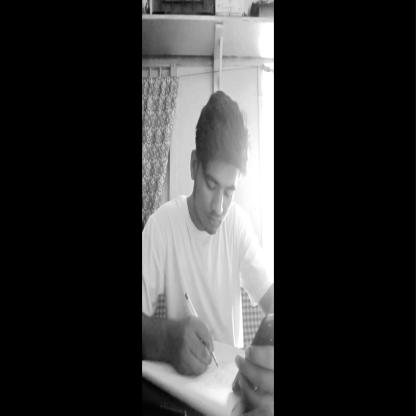Distracted: (196, 156, 234, 236)
